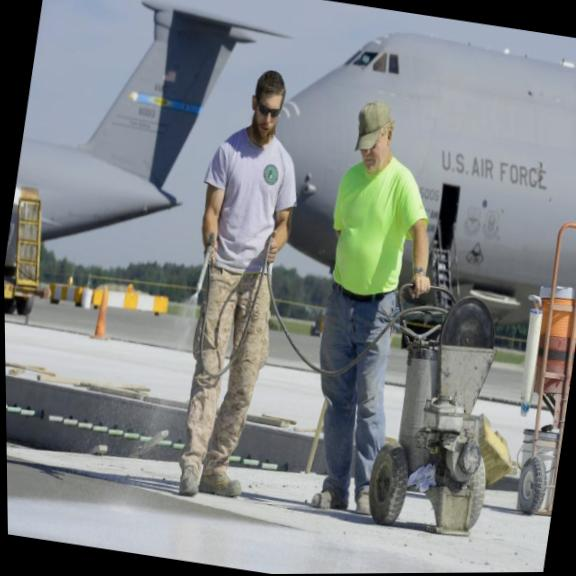no_safety_vest: (189, 114, 307, 294), (317, 148, 425, 297)
